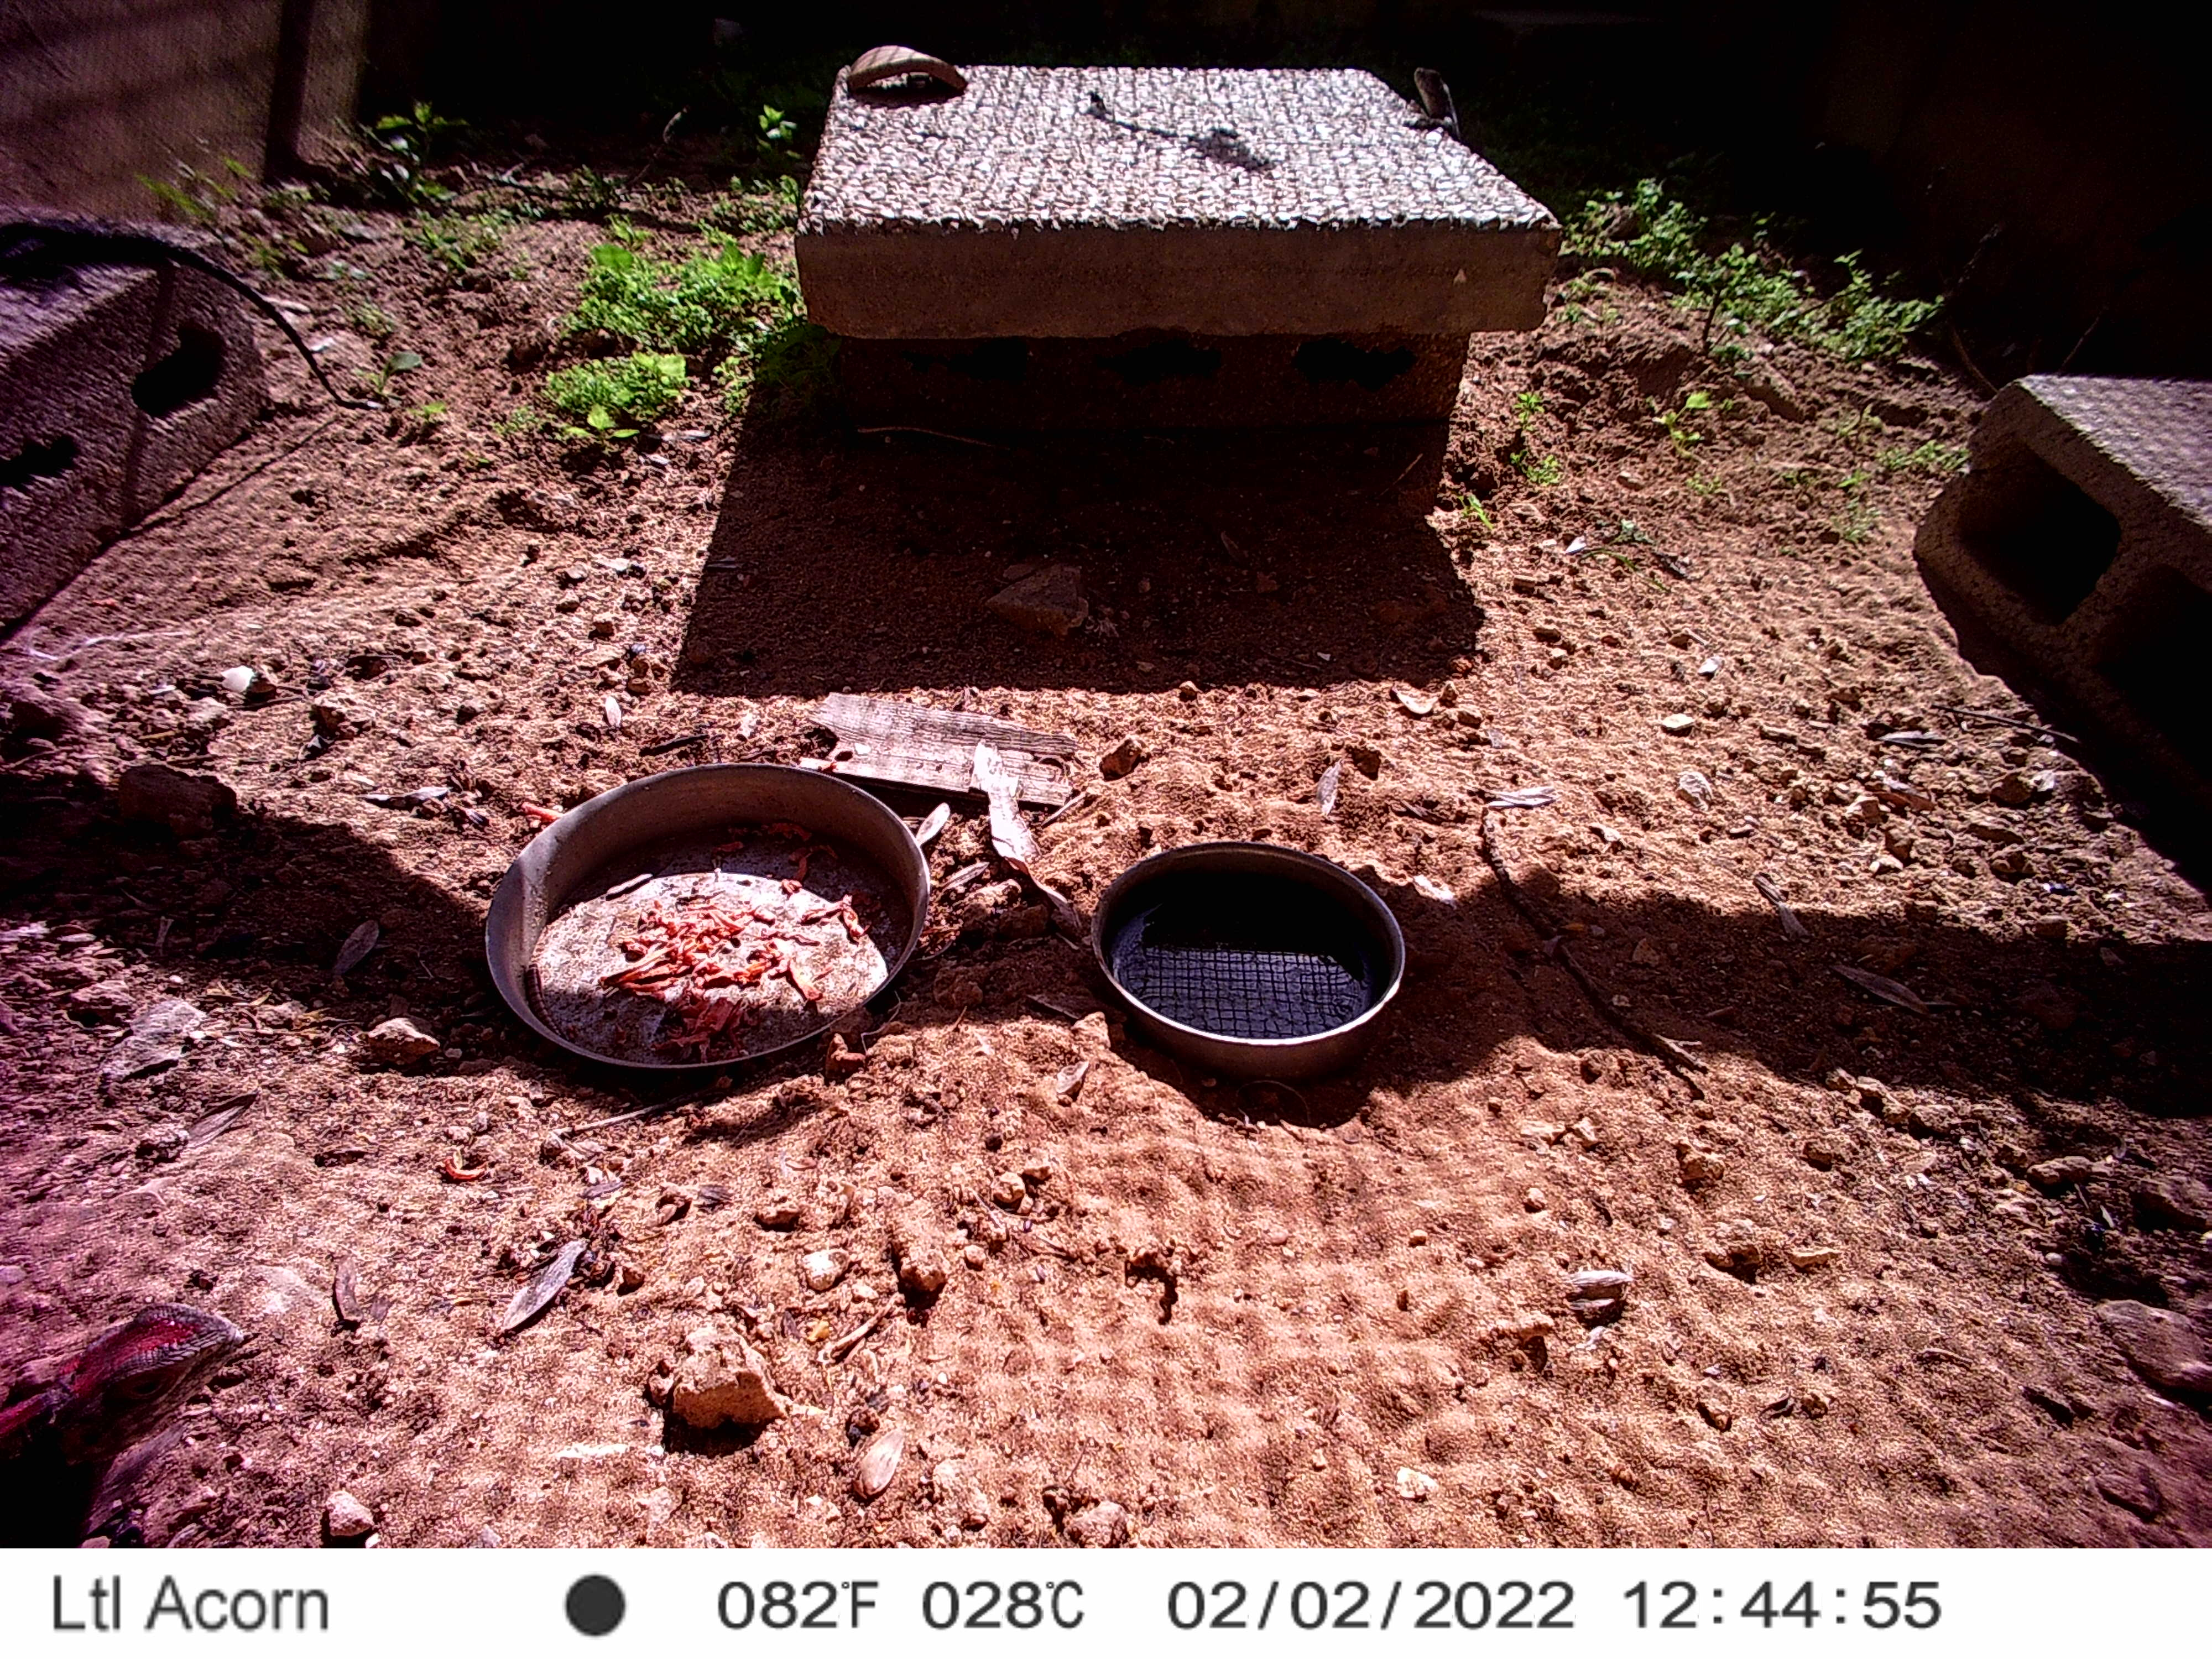lizard: (1022, 857, 1561, 1199)
